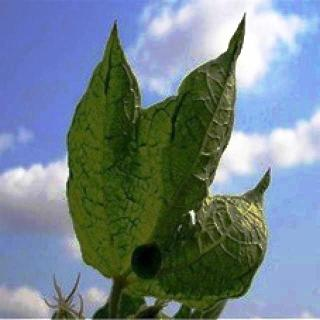curl: (66, 46, 268, 300)
